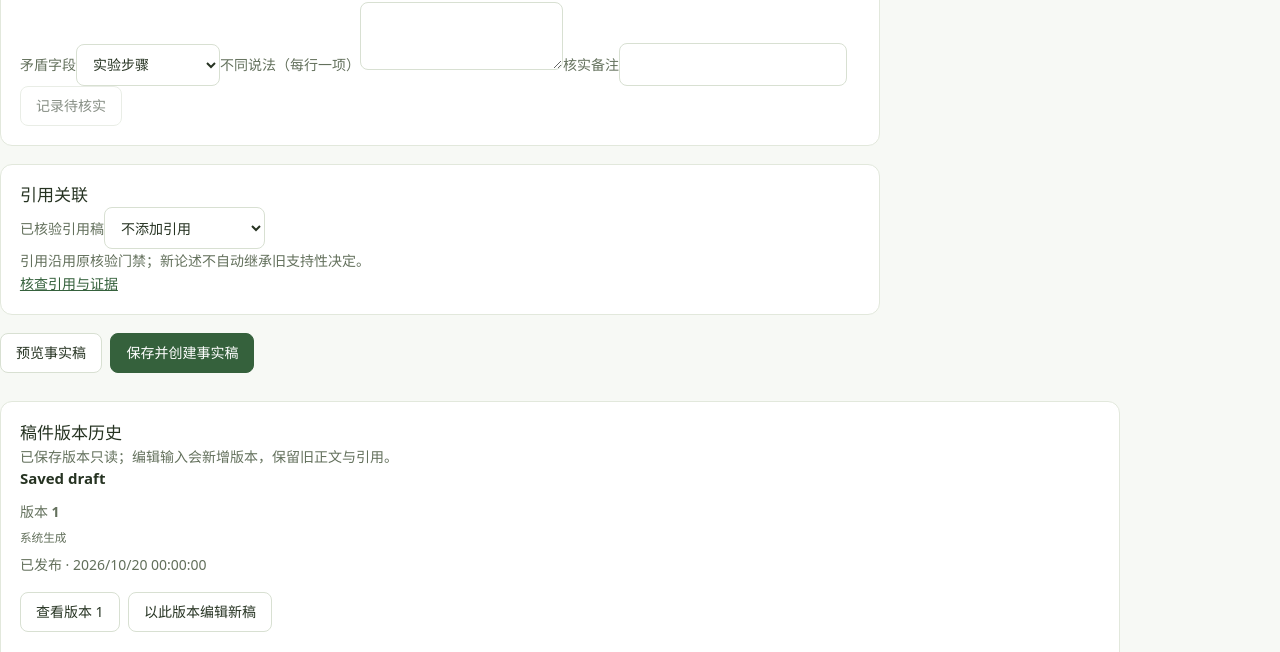
Test: opens fixed school export while keeping controlled writing available
(page scrolled)
Click the button "查看版本 1".
click(70, 612)  # box x1=20 y1=592 x2=120 y2=632
(page scrolled)
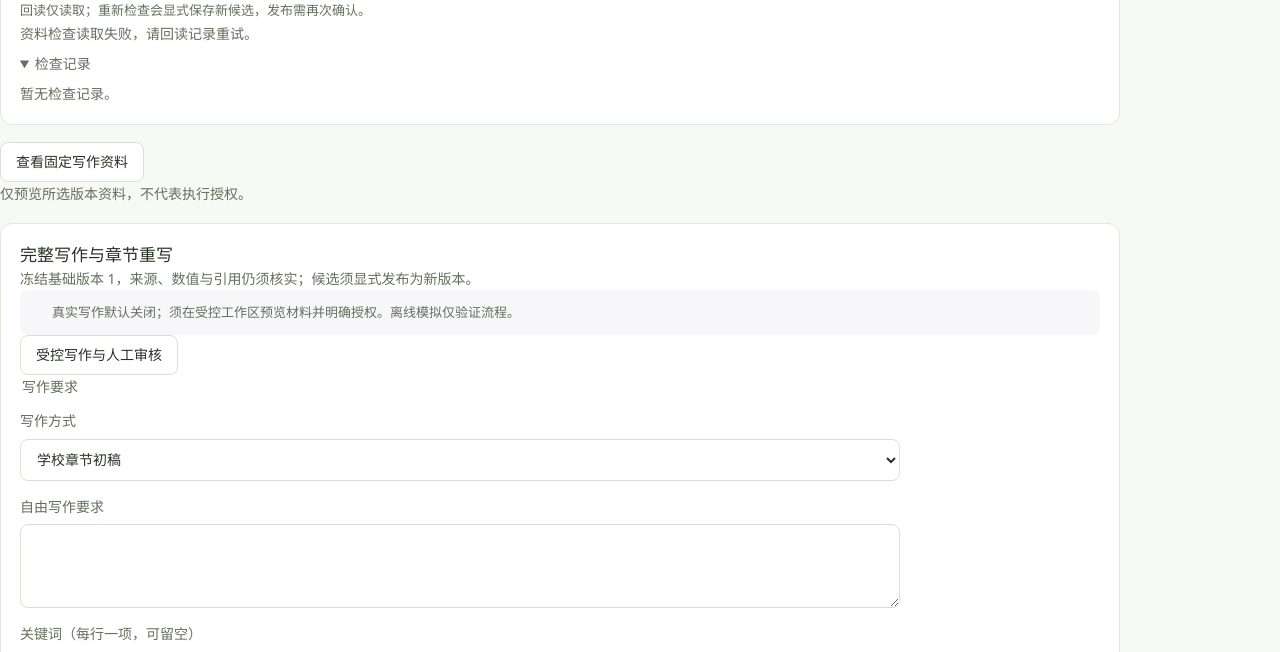
Result: the button "受控写作与人工审核" is shown at x1=20 y1=335 x2=178 y2=375
